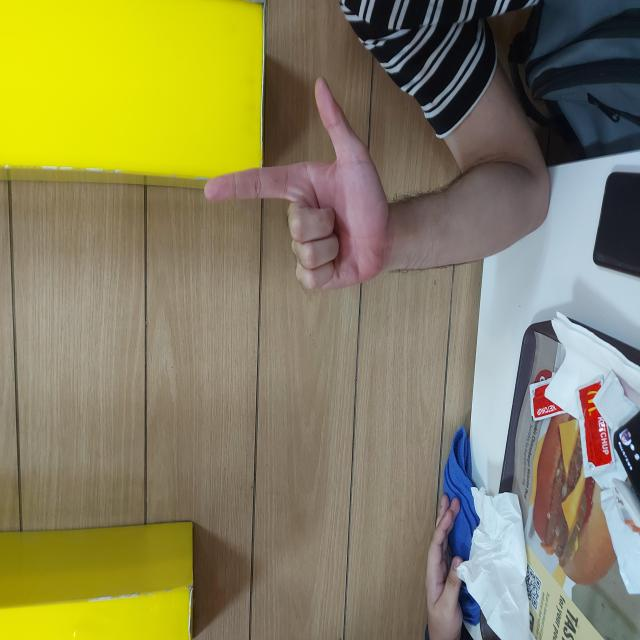L: (345, 202, 565, 393)
